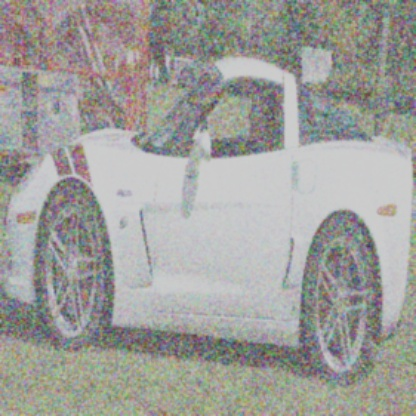Vehicle: (2, 46, 416, 394)
